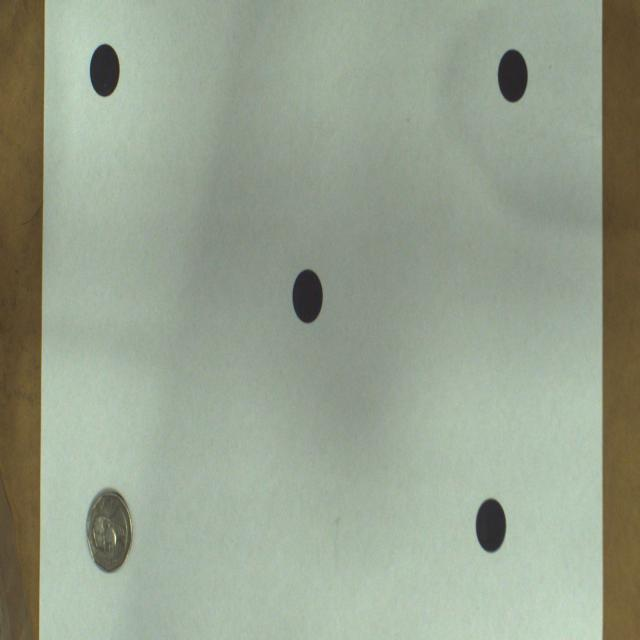head5bath: (86, 489, 132, 571)
space: (90, 44, 120, 98), (498, 49, 528, 102), (292, 269, 322, 322), (476, 500, 506, 551)
